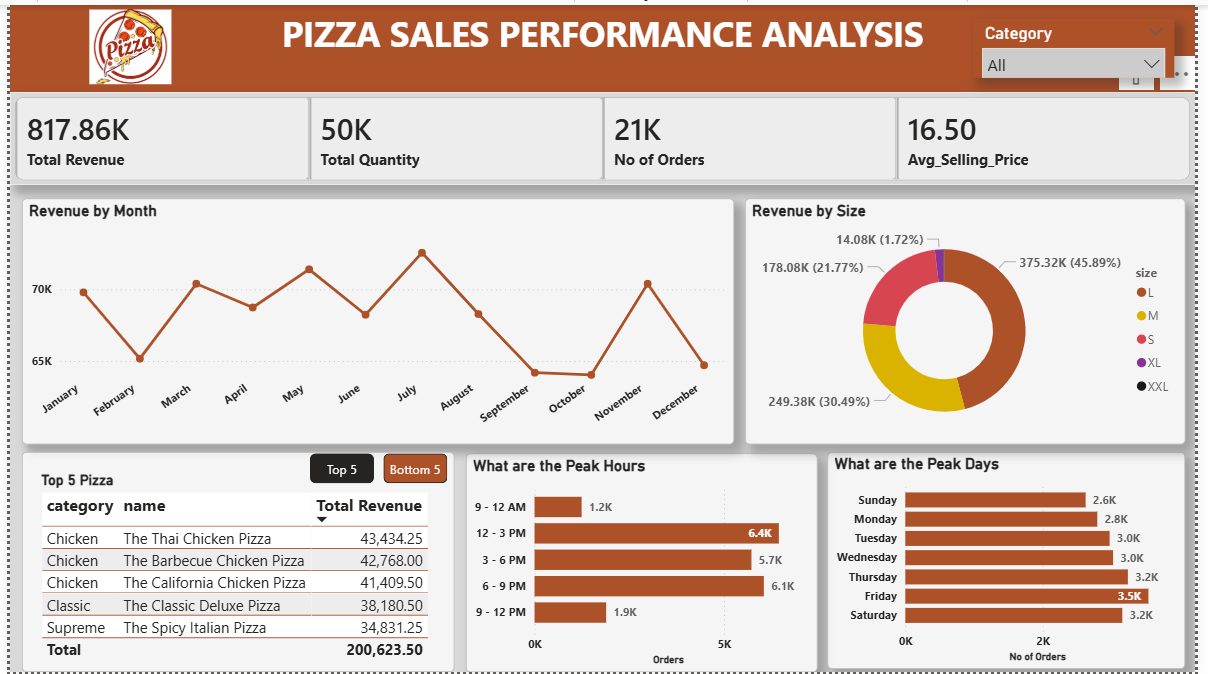

What the dashboard file says about the page in this screenshot:
{"tool":"powerbi","page":{"name":"Page 1","canvas":[1280,720],"ordinal":0},"visuals":[{"type":"barChart","title":"What are the Peak Hours","fields":{"Y":["All Measures.No of Orders"],"Category":["orders.Time Slot"]},"box":[491.5,484.9,379.4,235.9],"z":0},{"type":"textbox","box":[0,0,1279.4,94.5],"z":1000},{"type":"image","box":[13.2,4.9,234.2,80.8],"z":2000},{"type":"cardVisual","fields":{"Data":["All Measures.Total Revenue","All Measures.Total Quantity","All Measures.No of Orders","All Measures.Avg_Selling_Price"]},"box":[0,94,1280,100.6],"z":3000},{"type":"clusteredBarChart","title":"What are the Peak Days","fields":{"Category":["orders.Day Name"],"Y":["All Measures.No of Orders"]},"box":[882.5,483.3,386,234.2],"z":4000},{"type":"lineChart","title":"Revenue by Month ","fields":{"Y":["All Measures.Total Revenue"],"Category":["orders.Month Name"]},"box":[13.2,209.5,768.7,265.6],"z":5000},{"type":"donutChart","title":"Revenue by Size","fields":{"Y":["All Measures.Total Revenue"],"Category":["pizzas.size"]},"box":[793.4,209.5,475.1,265.6],"z":6000},{"type":"slicer","fields":{"Values":["pizza_types.category"]},"box":[1039.4,15.1,217.3,64.3],"z":7000},{"type":"tableEx","title":"Top 5 Pizza","fields":{"Values":["pizza_types.category","pizza_types.name","All Measures.Total Revenue"]},"box":[13.2,483.3,466.8,237.5],"z":8000},{"type":"bookmarkNavigator","box":[323.3,484.9,148.5,33],"z":10000}]}

Visuals, with their boxes in screenshot pixels (x1, y1, x2, y2), scaled from the page's 1280x720 canvas onto the 1208x674 screenshot:
"What are the Peak Hours" barChart: left=464, top=454, right=822, bottom=673
textbox: left=0, top=0, right=1207, bottom=88
image: left=12, top=5, right=233, bottom=80
cardVisual - All Measures.Total Revenue x All Measures.Total Quantity: left=0, top=88, right=1207, bottom=182
"What are the Peak Days" clusteredBarChart: left=833, top=452, right=1197, bottom=672
"Revenue by Month " lineChart: left=12, top=196, right=738, bottom=445
"Revenue by Size" donutChart: left=749, top=196, right=1197, bottom=445
slicer - pizza_types.category: left=981, top=14, right=1186, bottom=74
"Top 5 Pizza" tableEx: left=12, top=452, right=453, bottom=673
bookmarkNavigator: left=305, top=454, right=445, bottom=485
